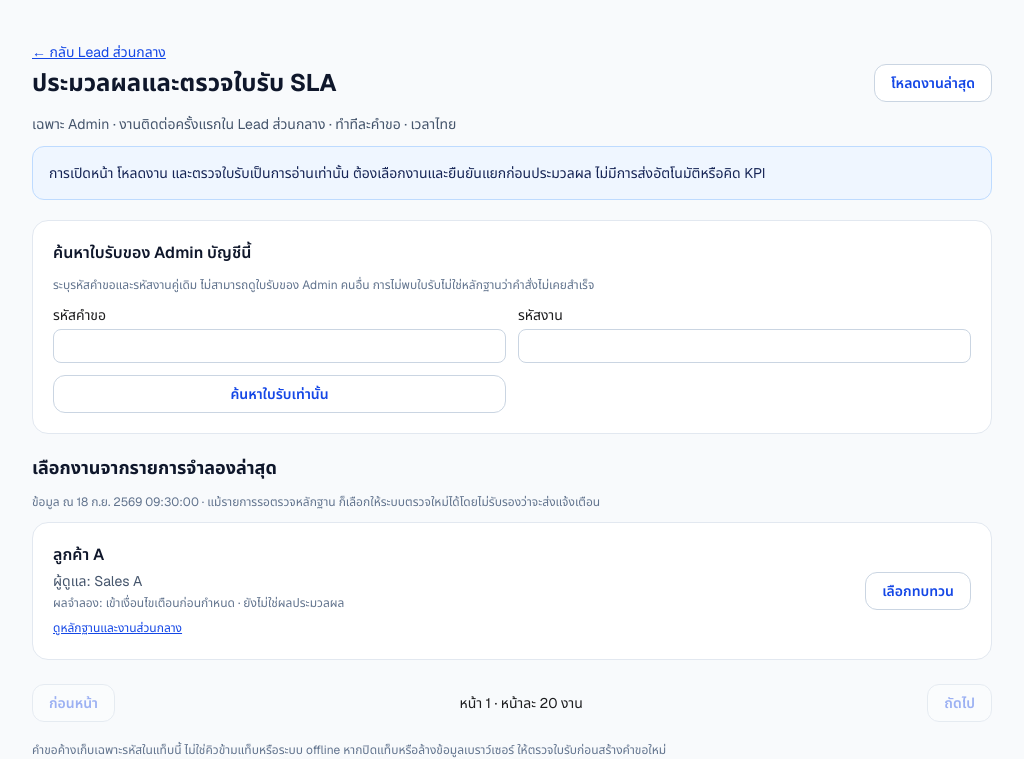
Admin explicit first-contact processing and historical receipt UI › rechecks the seventh gate before POST and generates no request ID when it was disabled
Expected: the heading "ประมวลผลและตรวจใบรับ SLA" is shown, [32, 67, 337, 99]
Expected: the button "โหลดงานล่าสุด" is enabled, [874, 64, 992, 102]
Click the button with aria-label "ทบทวนงานของ ลูกค้า A".
click(918, 591)  # box [865, 572, 971, 610]
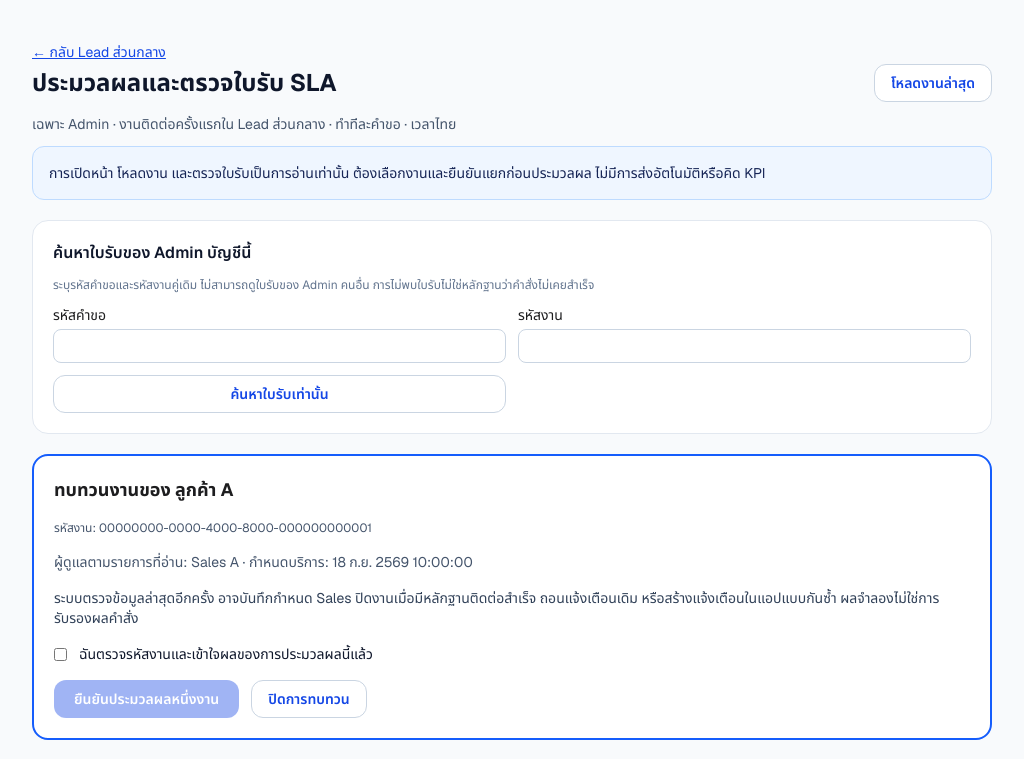
Click the checkbox labelled "ฉันตรวจรหัสงานและเข้าใจผลของการประมวลผลนี้แล้ว".
click(60, 654)  # box [54, 648, 67, 661]
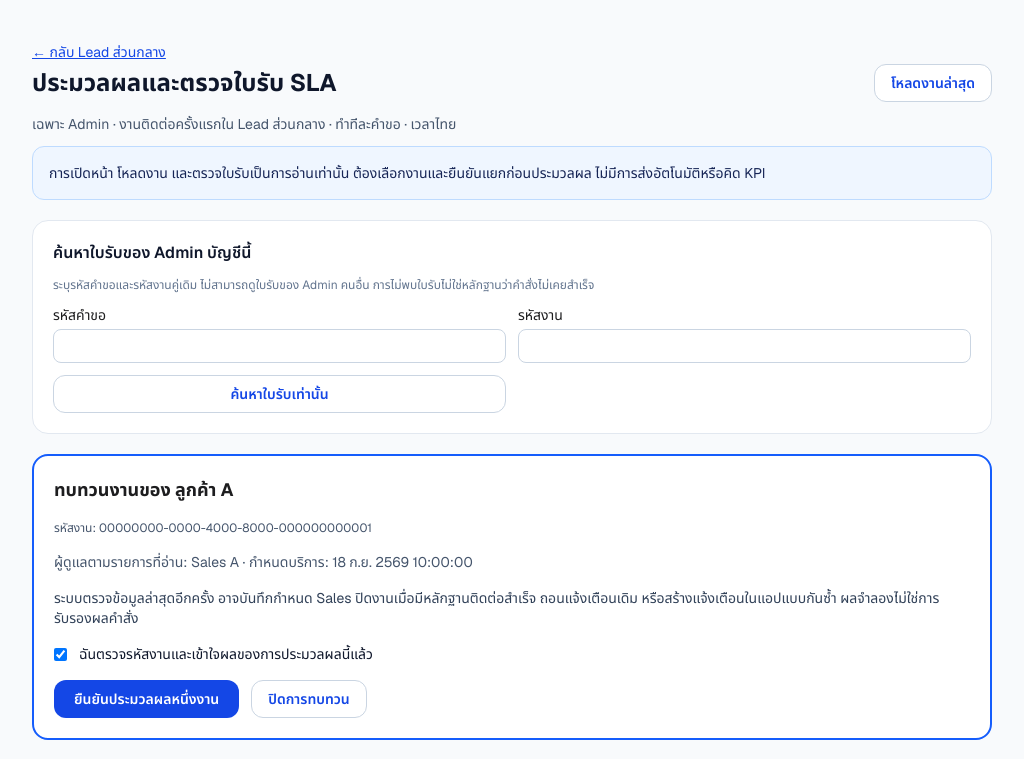
Click the button "ยืนยันประมวลผลหนึ่งงาน".
click(147, 699)  # box [54, 680, 239, 718]
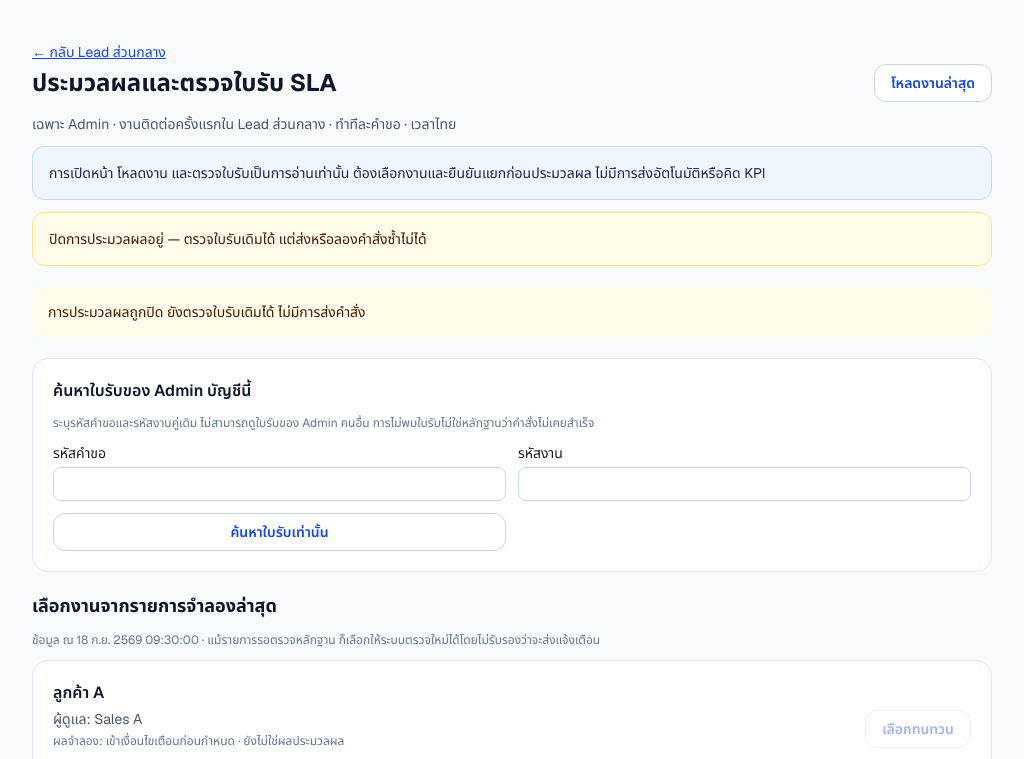
Expected: the text "การประมวลผลถูกปิด ยังตรวจใบรับเดิมได้ ไม่มีการส่งคำสั่ง" is shown, [32, 286, 992, 338]
Expected: the button with aria-label "ทบทวนงานของ ลูกค้า A" is disabled, [865, 710, 971, 748]
